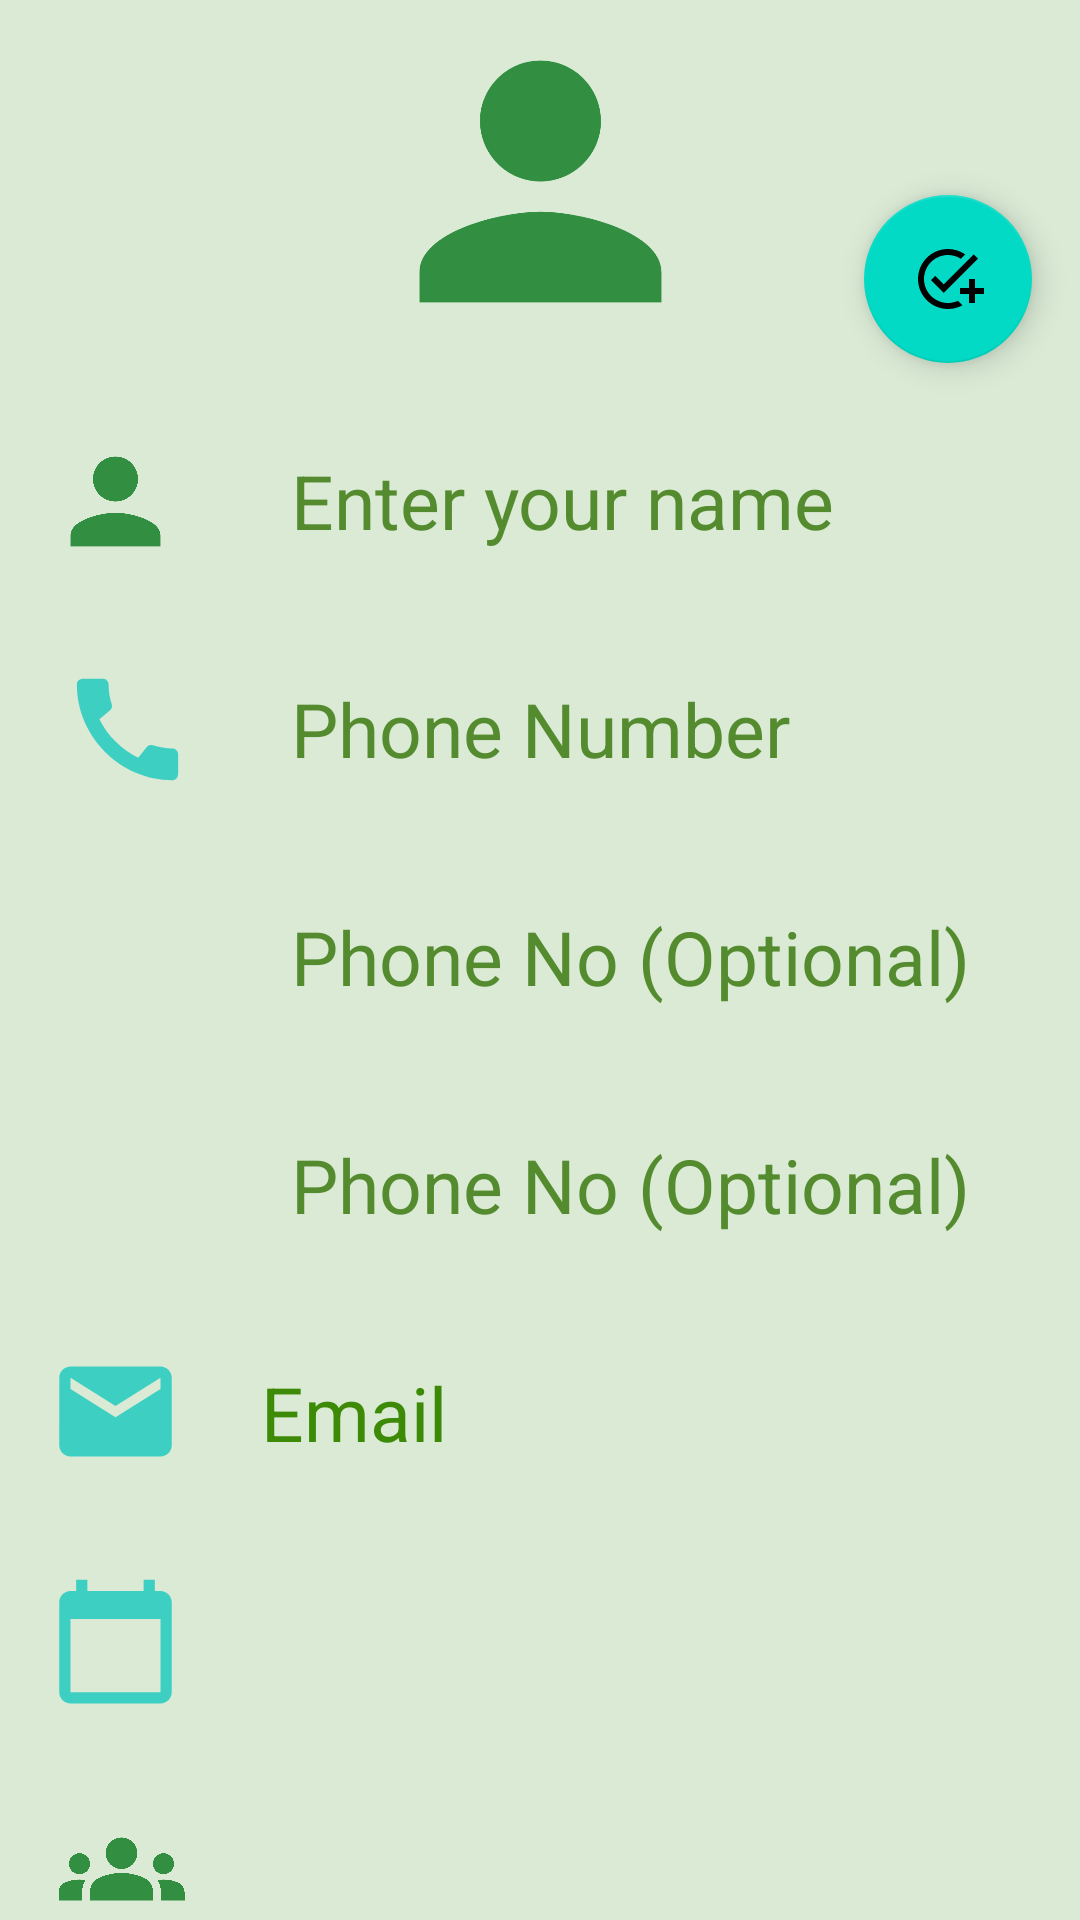

Named icons in this screenshot (1080x1920) and their centers, (x,y):
add task: (948,279)
calendar today: (115,1641)
call: (127,729)
groups: (122,1869)
person: (540,181), (115,501)
